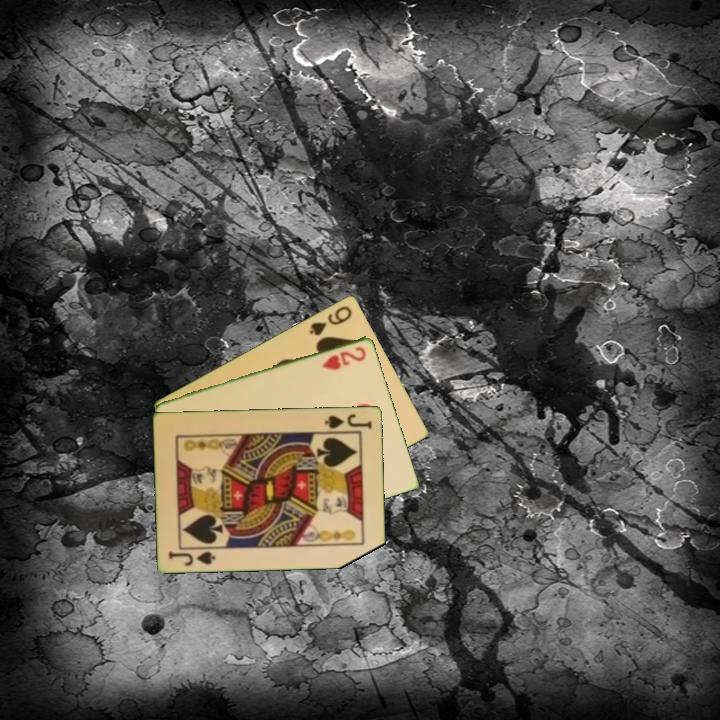2h: (318, 343, 369, 373)
9s: (305, 302, 355, 338)
Js: (322, 410, 375, 432), (166, 547, 219, 568)
